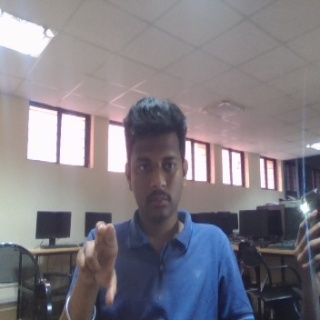Face: (123, 94, 189, 222)
No: (75, 218, 121, 307)
